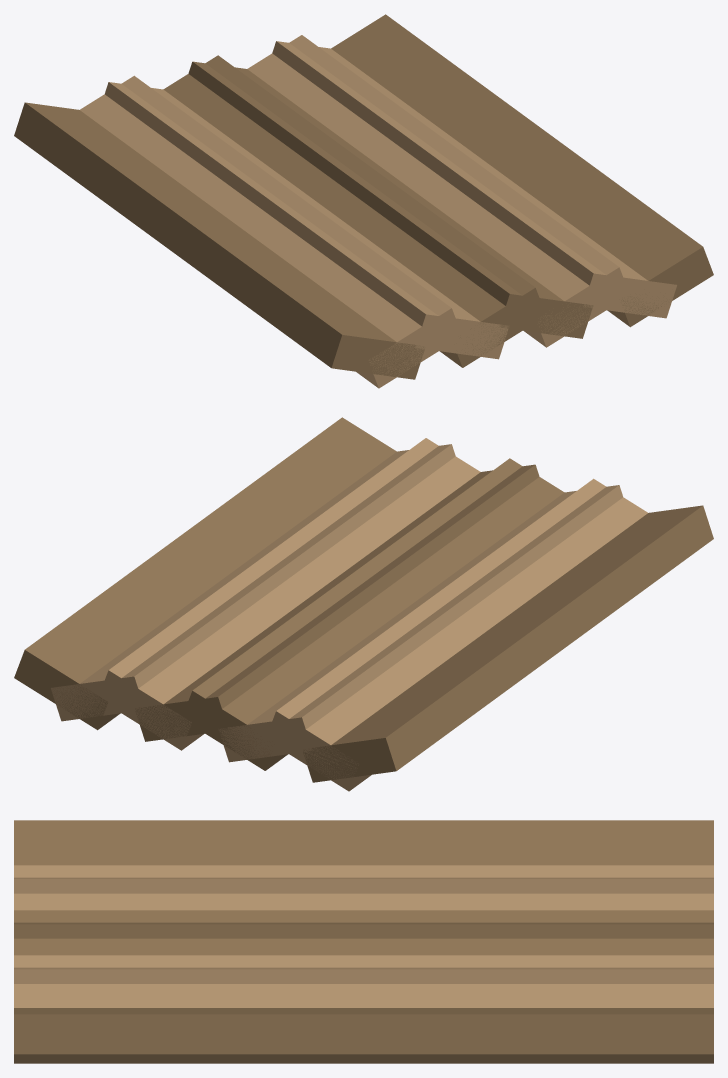
Rendered from roof.glb.
3 views of the same model, one above another, from view 1: azimuth 30°, elevation 25°; view 2: azimuth 150°, elevation 25°; view 3: azimuth 270°, elevation 25° (orthographic). The views are drawn at different scales.
Visible parts, largest first — view 1: PanelL, PanelR, PanelR.003, PanelR.002, PanelR.001, PanelL.002, PanelL.003, PanelL.001; view 2: PanelL, PanelR, PanelR.001, PanelR.002, PanelR.003, PanelL.001, PanelL.003, PanelL.002; view 3: PanelL.003, PanelR, PanelL, PanelL.001, PanelL.002, PanelR.001, PanelR.002, PanelR.003.
Boxes of the visible parts, x1,y1,x2,y2 form: PanelL: [14, 102, 424, 379]; PanelR: [331, 14, 713, 327]; PanelR.003: [80, 75, 460, 388]; PanelR.002: [163, 55, 544, 367]; PanelR.001: [247, 35, 623, 347]; PanelL.002: [188, 61, 593, 338]; PanelL.003: [272, 41, 676, 318]; PanelL.001: [105, 82, 508, 359]; PanelL: [303, 505, 713, 782]; PanelR: [14, 417, 396, 730]; PanelR.001: [100, 438, 480, 750]; PanelR.002: [182, 458, 564, 770]; PanelR.003: [267, 478, 647, 791]; PanelL.001: [218, 485, 622, 762]; PanelL.003: [51, 444, 455, 721]; PanelL.002: [135, 464, 539, 741]; PanelL.003: [14, 955, 713, 1063]; PanelR: [14, 1008, 713, 1054]; PanelL: [14, 820, 713, 865]; PanelL.001: [14, 865, 713, 910]; PanelL.002: [14, 910, 713, 955]; PanelR.001: [14, 967, 713, 983]; PanelR.002: [14, 922, 713, 938]; PanelR.003: [14, 877, 713, 893].
Size of the model in its own units: 1.46 by 0.229 by 2.1.
